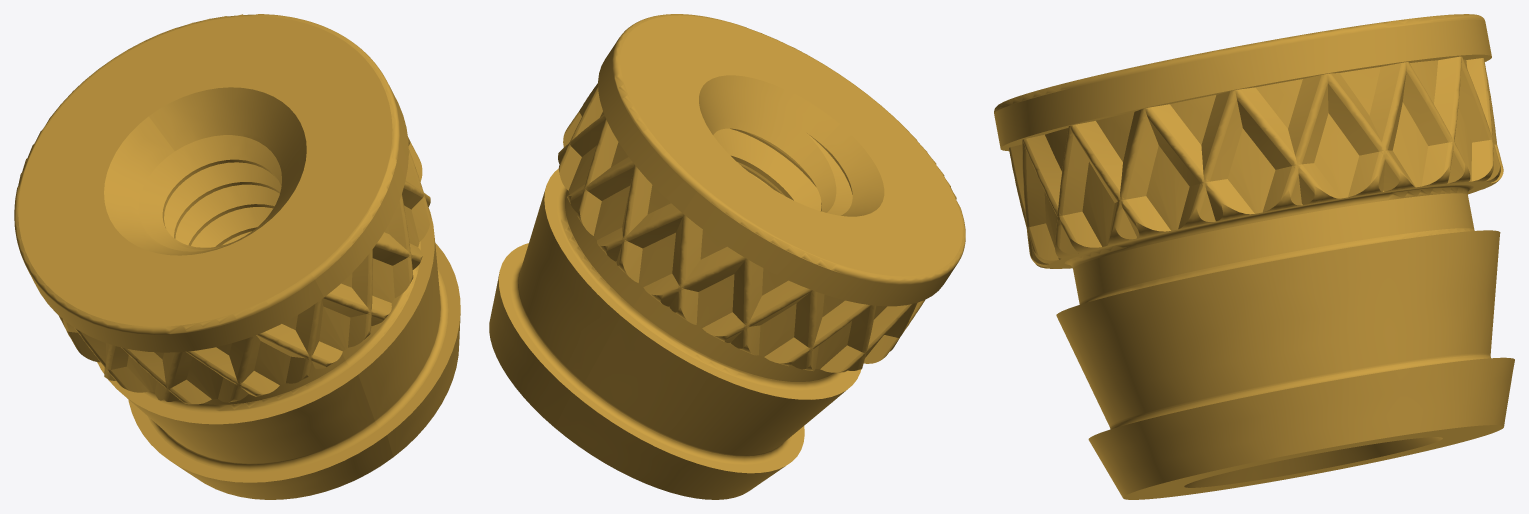
3 views of the same model, side by side, from view 1: azimuth 30°, elevation 25°; view 2: azimuth 150°, elevation 25°; view 3: azimuth 270°, elevation 25° (orthographic). The views are drawn at different scales.
Parts seen in each view (by area): view 1: Heat insert; view 2: Heat insert; view 3: Heat insert.
Part boxes in pixels (x1,y1,x2,y2): Heat insert: [14, 14, 460, 499]; Heat insert: [489, 14, 965, 499]; Heat insert: [994, 14, 1514, 499].
Bounding box in the file's own units: 4.15 × 4.1 × 3.72.
